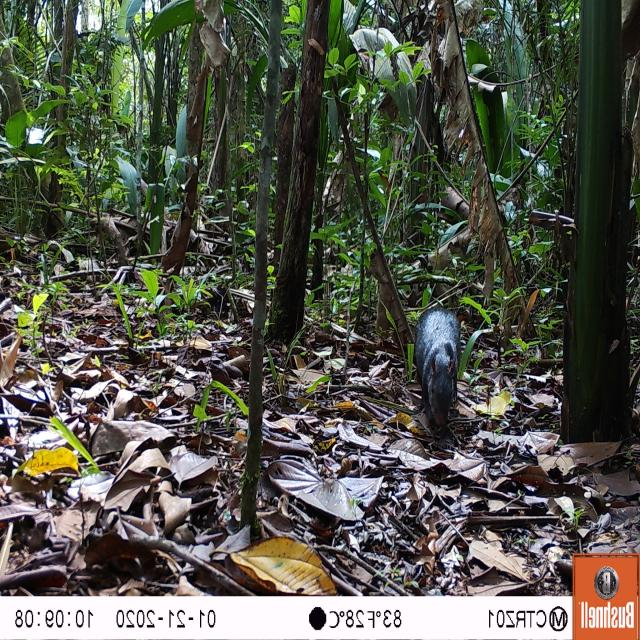Black Agouti: (412, 306, 463, 442)
